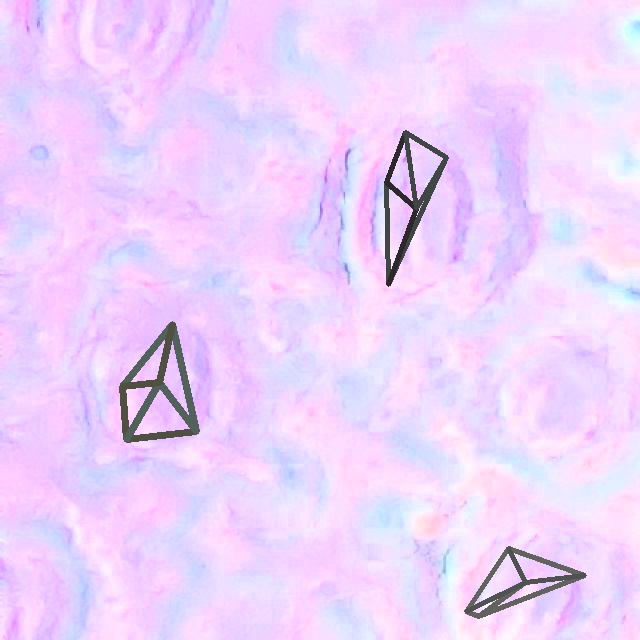close: (119, 321, 199, 442), (385, 131, 447, 286), (464, 546, 586, 617)
